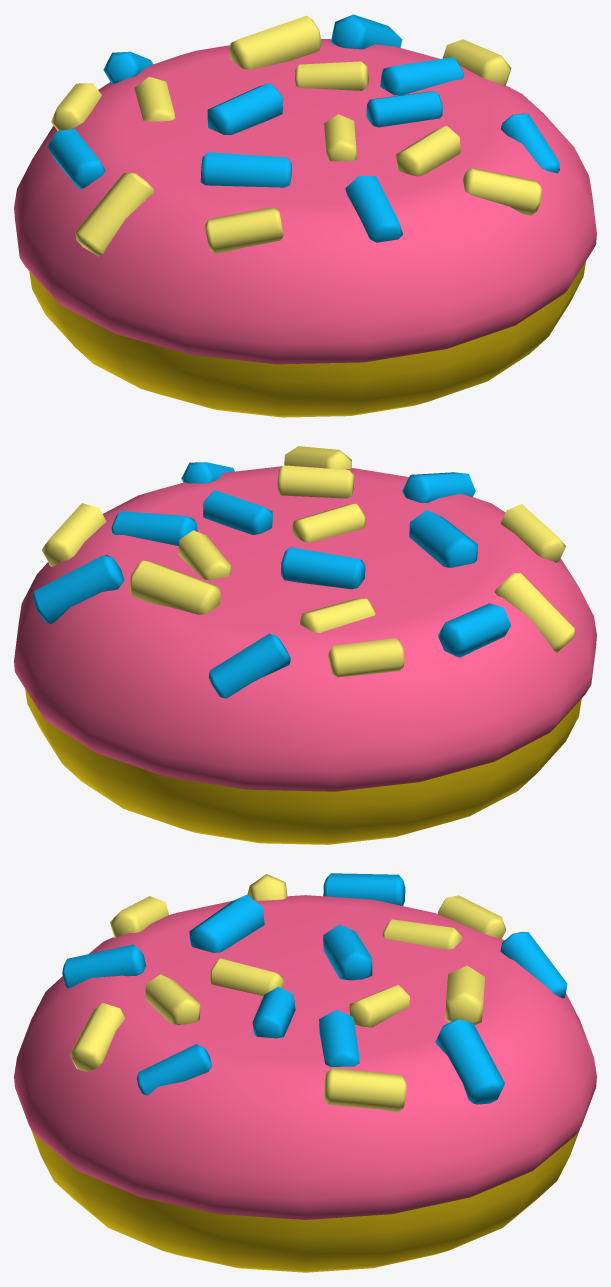
The model's file is donut.glb.
3 renders of one model, top to bottom at view 1: azimuth 30°, elevation 25°; view 2: azimuth 150°, elevation 25°; view 3: azimuth 270°, elevation 25°, orthographic.
Parts seen in each view (by area): view 1: Donut; view 2: Donut; view 3: Donut.
Part boxes in pixels (x1,y1,x2,y2): Donut: (14,14,596,417); Donut: (14,446,596,844); Donut: (14,873,596,1272).
Bounding box in the file's own units: 0.1423 × 0.0632 × 0.1423.
1 material, 1 textured.
